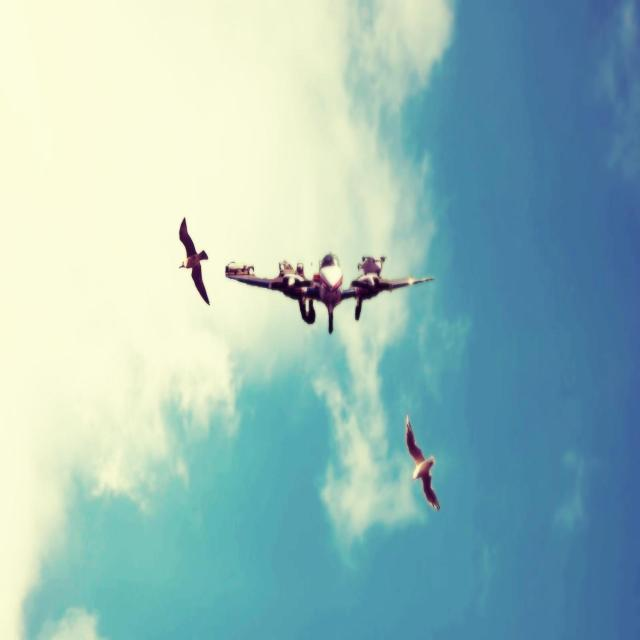airplane: (225, 251, 434, 334)
